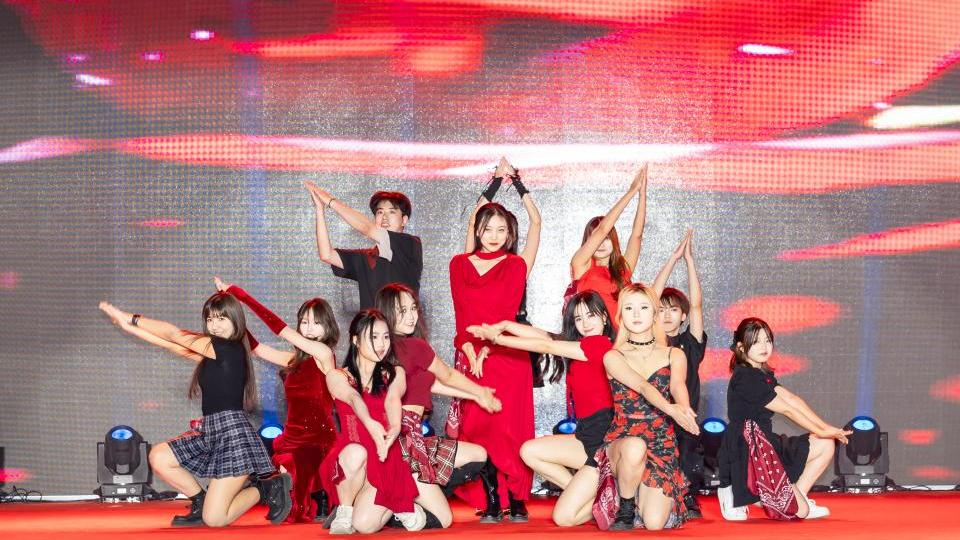persion: (354, 322, 390, 366), (474, 214, 511, 254), (571, 301, 608, 339), (620, 295, 657, 332), (373, 202, 412, 236), (393, 293, 420, 338), (298, 311, 327, 347), (745, 327, 773, 363), (206, 311, 238, 341), (656, 301, 685, 331), (593, 230, 613, 258)
